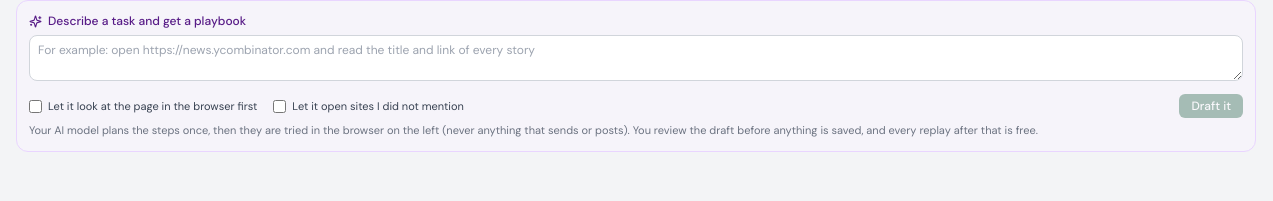
Test case: DescribeBox › a refusal at the start is shown and nothing is polled
In the text box named "Describe the task": (636, 58) [29,35,1243,81], type "open the list and read it"
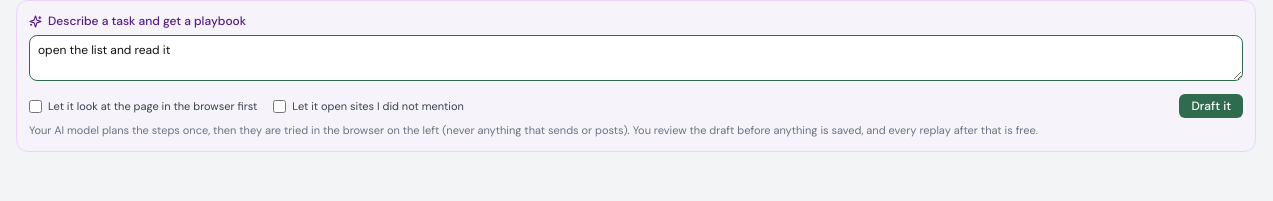
Click the button "Draft it": (1211, 106) [1179,94,1243,118]
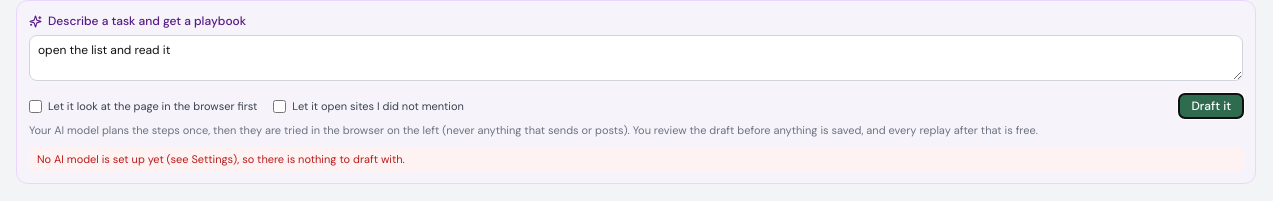
Expected: the message shows "No AI model is set up", [37,152,405,166]
